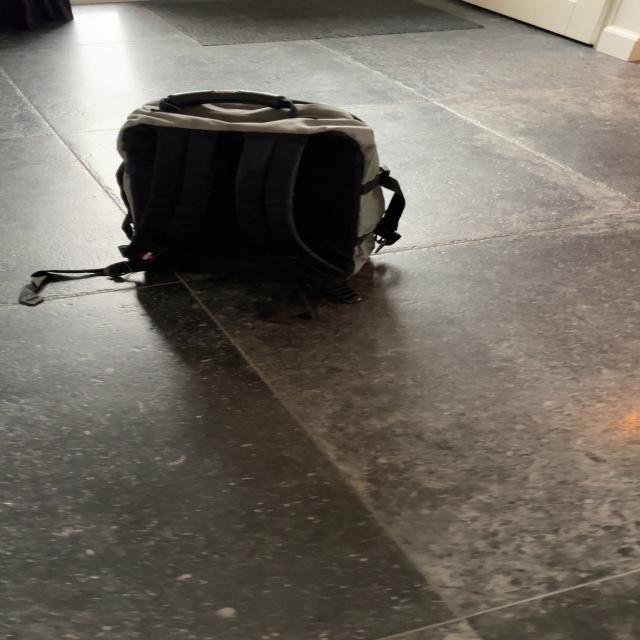backpack: (101, 83, 412, 319)
